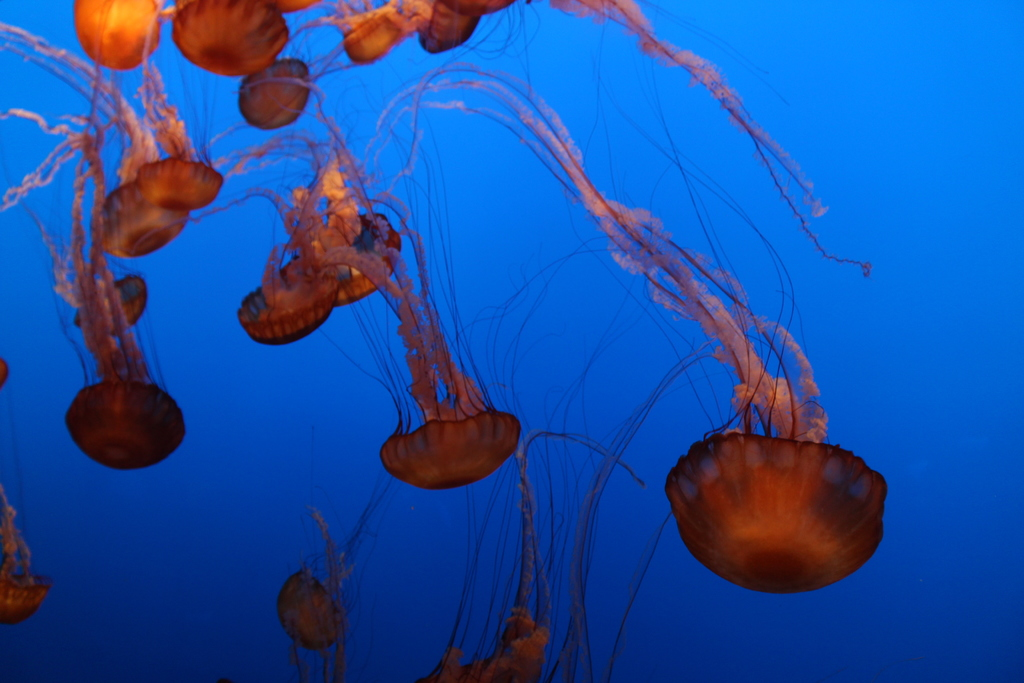Jellyfish: (0, 0, 876, 682), (672, 402, 888, 588)
